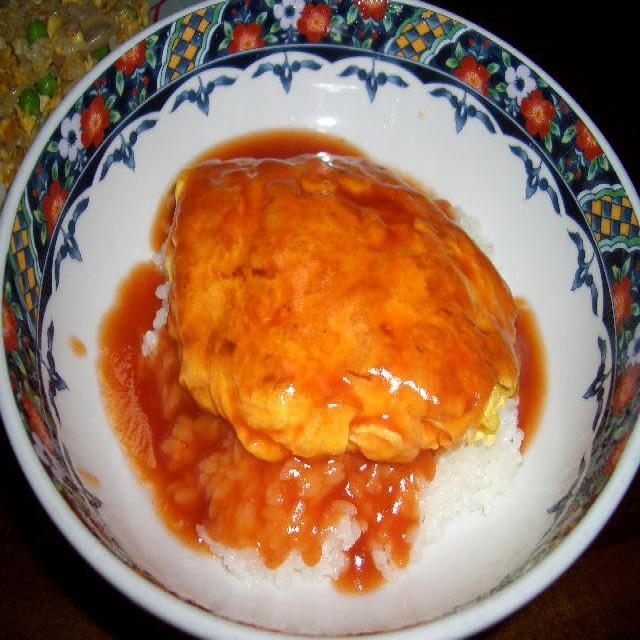熟制海鲜: (32, 92, 640, 640)
